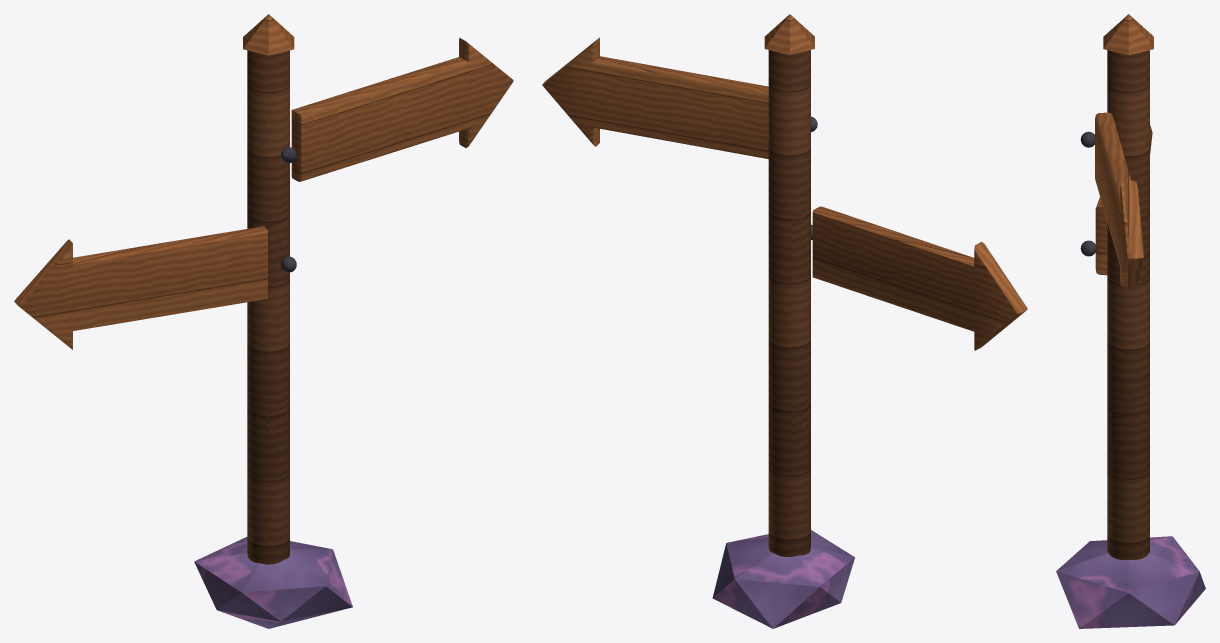
Rendered from GIN_UG_ArrowSign.fbx.
The picture shows the model from 3 angles, left to right: view 1: azimuth 30°, elevation 25°; view 2: azimuth 150°, elevation 25°; view 3: azimuth 270°, elevation 25°; orthographic projection.
Parts seen in each view (by area): view 1: GIN_UG_ArrowSign; view 2: GIN_UG_ArrowSign; view 3: GIN_UG_ArrowSign.
Part boxes in pixels (left/top/right/bottom): GIN_UG_ArrowSign: left=14, top=14, right=513, bottom=628; GIN_UG_ArrowSign: left=542, top=14, right=1027, bottom=628; GIN_UG_ArrowSign: left=1056, top=14, right=1205, bottom=628.
Bounding box in the file's own units: 2.11 × 2.53 × 0.562.
